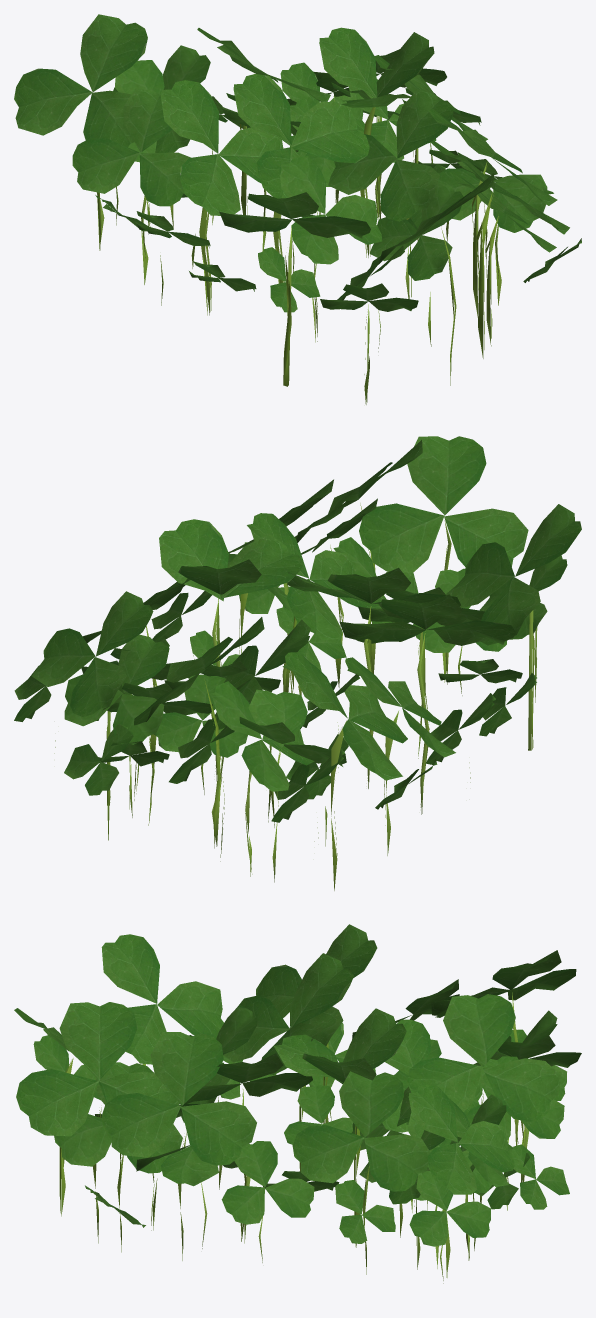
3 renders of one model, top to bottom at view 1: azimuth 30°, elevation 25°; view 2: azimuth 150°, elevation 25°; view 3: azimuth 270°, elevation 25°, orthographic. The views are drawn at different scales.
Visible parts, largest first — view 1: trunks; view 2: trunks; view 3: trunks.
Boxes of the visible parts, box(x1,y1,x2,y2) form: trunks: box(14, 14, 581, 404); trunks: box(14, 436, 581, 890); trunks: box(14, 924, 581, 1283).
Size of the model in its own units: 200 by 104 by 239.
Materials: 2 (2 with a texture image).
